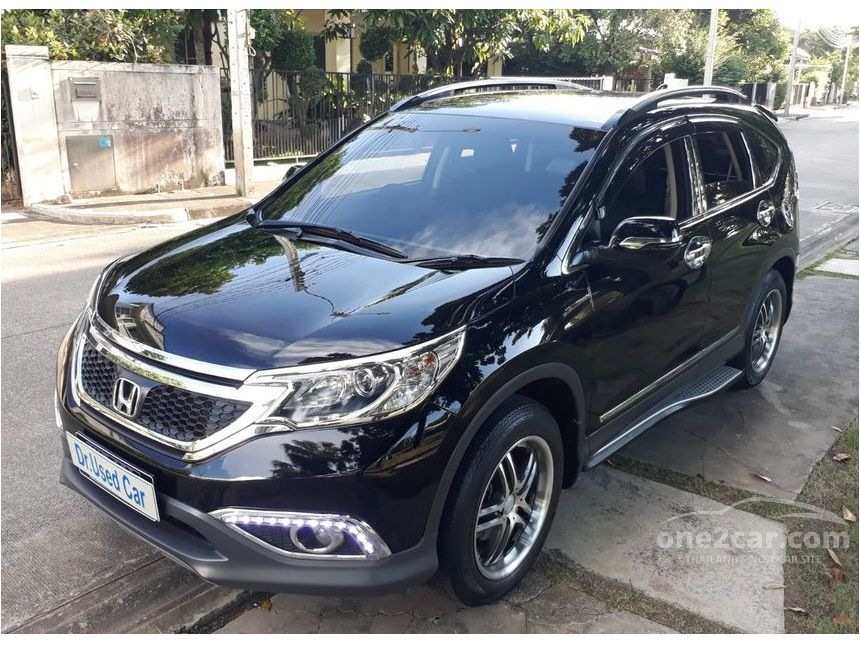pickup: (51, 72, 802, 608)
